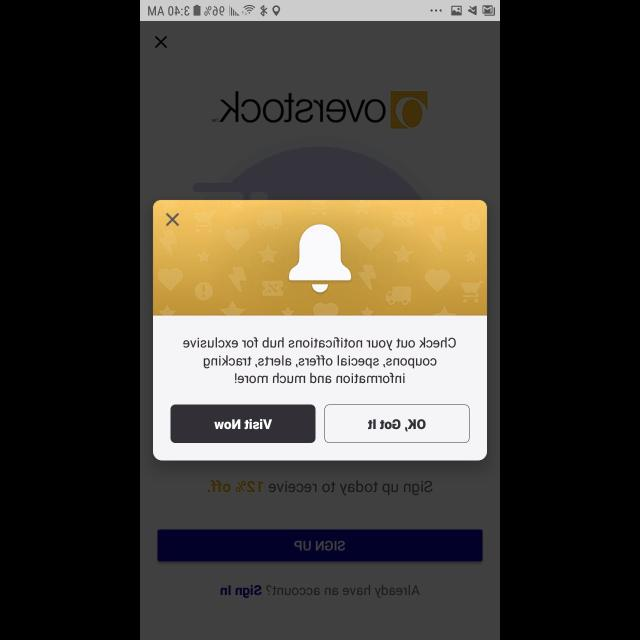icon: (289, 224, 351, 292), (166, 214, 178, 226)
panel: (153, 200, 487, 460)
text: (182, 336, 456, 384)
textbutton: (324, 404, 470, 444), (170, 404, 316, 444)
uppertaskbar: (140, 1, 500, 22)
